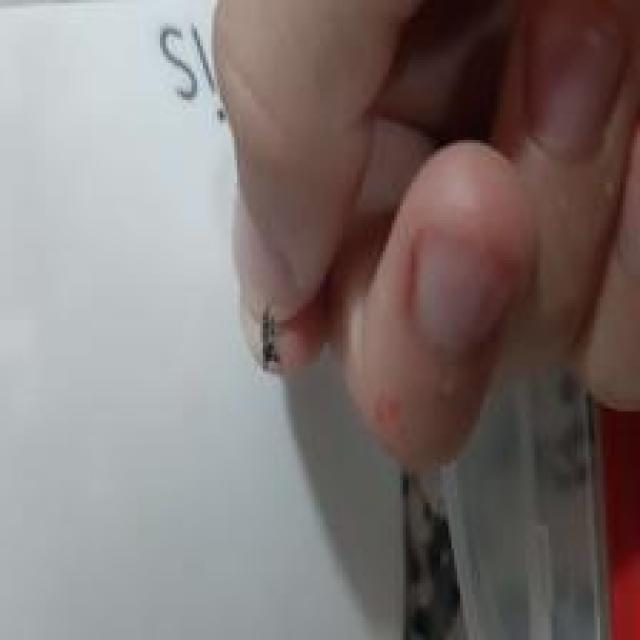Aedes albopictus: (258, 300, 282, 374)
